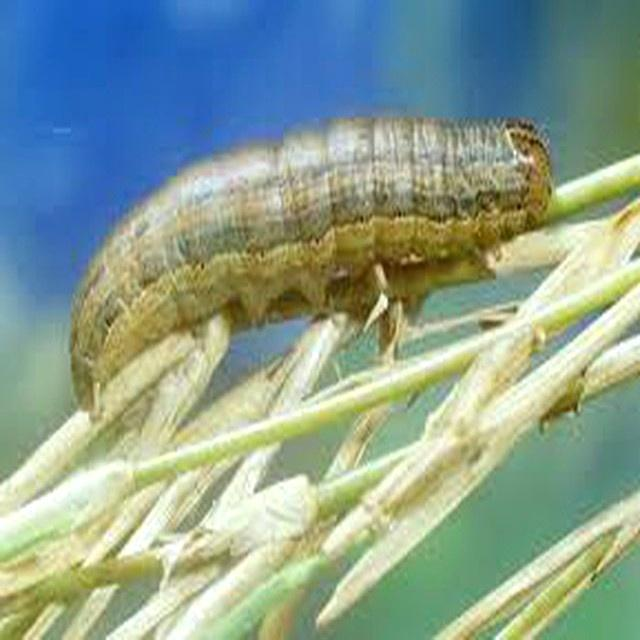gusano_cogollero: (64, 110, 559, 424)
